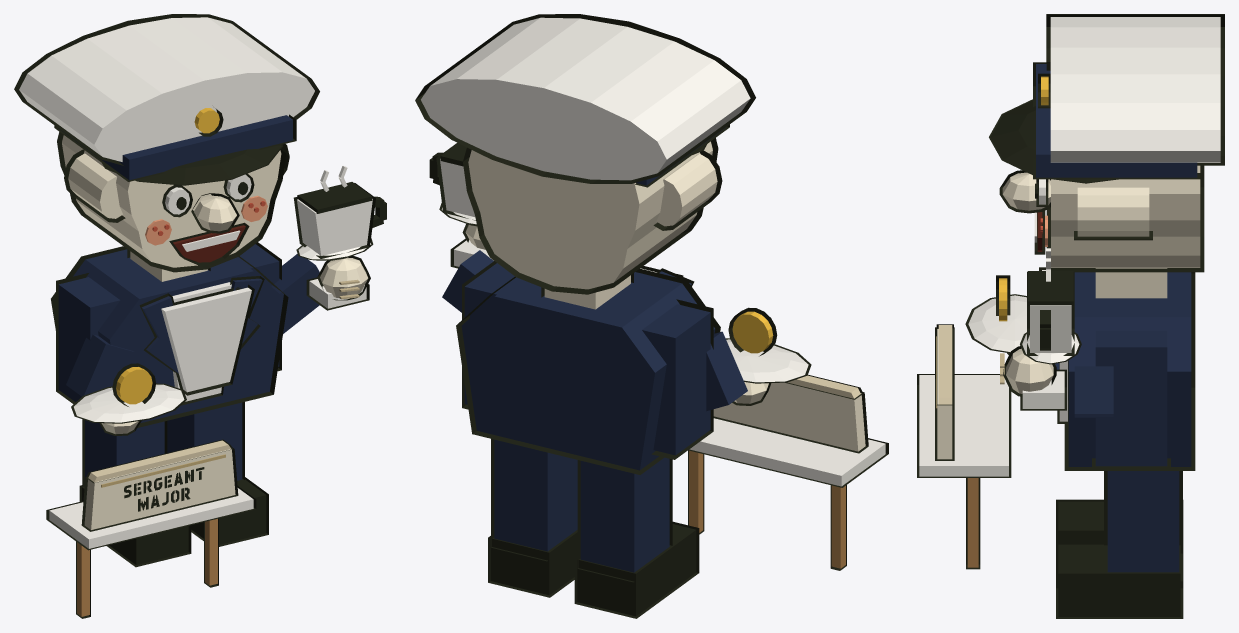
3 renders of one model, left to right at view 1: azimuth 30°, elevation 25°; view 2: azimuth 150°, elevation 25°; view 3: azimuth 270°, elevation 25°, orthographic. The views are drawn at different scales.
Parts seen in each view (by area): view 1: Link Marine; view 2: Link Marine; view 3: Link Marine.
Part boxes in pixels (<box>): Link Marine: <box>14,14,386,618</box>; Link Marine: <box>415,14,888,618</box>; Link Marine: <box>917,14,1224,618</box>.
Bounding box in the file's own units: 0.7725 × 0.9942 × 0.5155.
